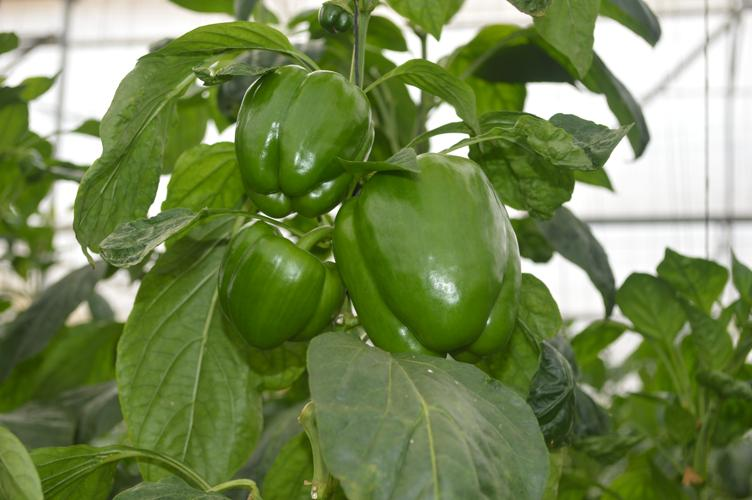BellPepper: (341, 153, 521, 360), (234, 66, 373, 219), (216, 221, 338, 349)
